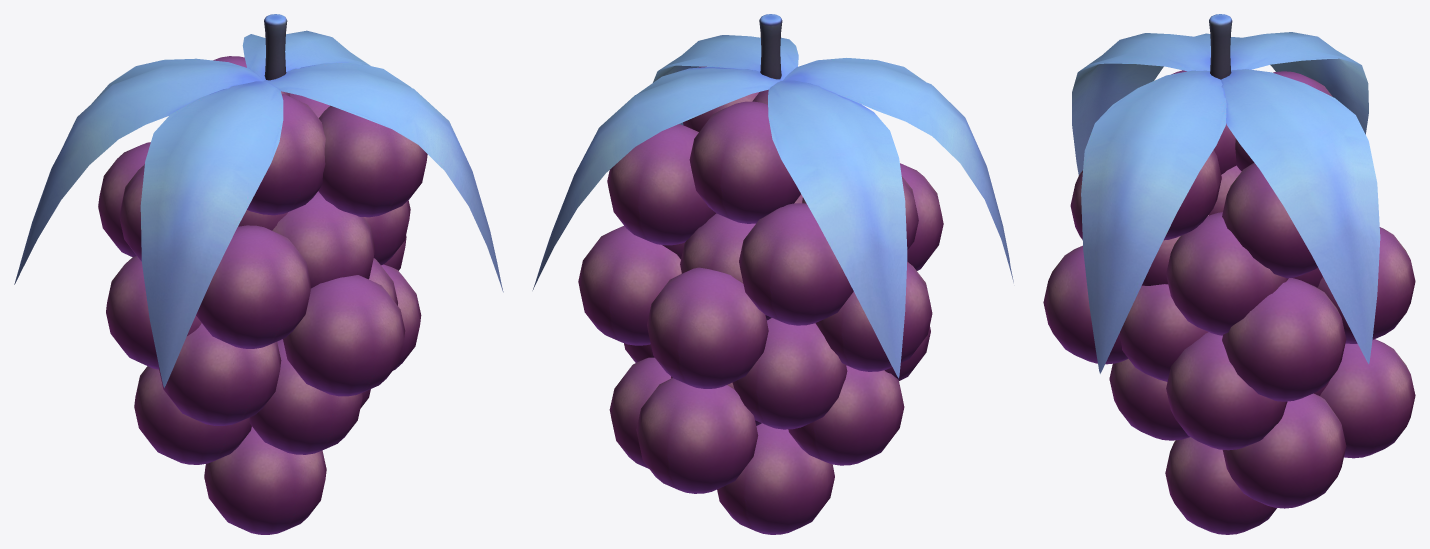
The model's file is Lavender_Berry_dream.glb.
The picture shows the model from 3 angles, left to right: view 1: azimuth 30°, elevation 25°; view 2: azimuth 150°, elevation 25°; view 3: azimuth 270°, elevation 25°; orthographic projection.
Parts seen in each view (by area): view 1: Lavender_Berry; view 2: Lavender_Berry; view 3: Lavender_Berry.
Boxes of the visible parts, left/top/right/bottom form: Lavender_Berry: left=14, top=14, right=503, bottom=534; Lavender_Berry: left=532, top=14, right=1013, bottom=534; Lavender_Berry: left=1043, top=14, right=1415, bottom=534.
Size of the model in its own units: 1.64 by 2.21 by 1.45.
Materials: 1 (1 with a texture image).
